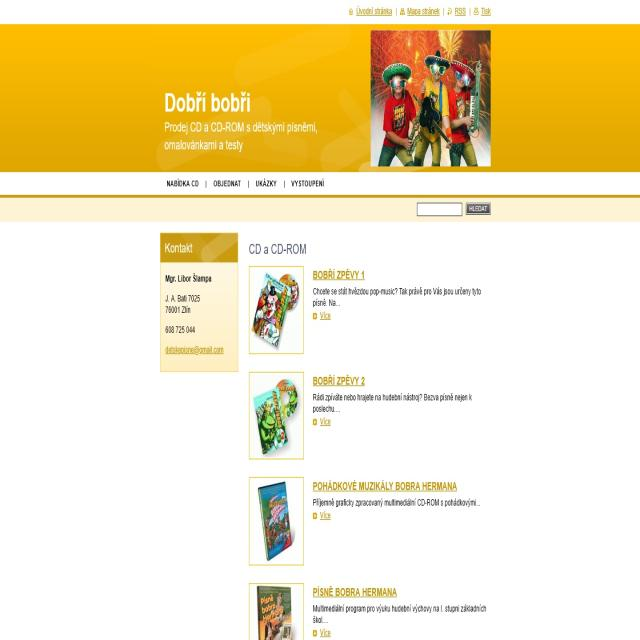button: (396, 2, 444, 24), (349, 1, 395, 21), (208, 176, 248, 194), (288, 177, 327, 194), (164, 177, 203, 193), (249, 176, 282, 194), (445, 2, 469, 22), (470, 2, 493, 22), (467, 203, 489, 214)
field: (416, 202, 462, 216)
heading: (312, 285, 483, 308), (162, 85, 254, 115), (312, 478, 458, 494), (312, 585, 399, 600), (248, 240, 308, 256), (312, 375, 368, 388), (312, 267, 365, 280), (163, 240, 195, 255)
image: (371, 29, 491, 167), (249, 476, 303, 564), (249, 372, 303, 458), (250, 265, 303, 352), (250, 581, 304, 640)
link: (164, 344, 226, 356), (312, 416, 333, 430), (312, 626, 333, 639), (313, 310, 332, 323), (312, 512, 332, 522)
text: (161, 119, 318, 156), (312, 390, 475, 415), (311, 602, 488, 620), (164, 272, 213, 336), (312, 496, 482, 508)
